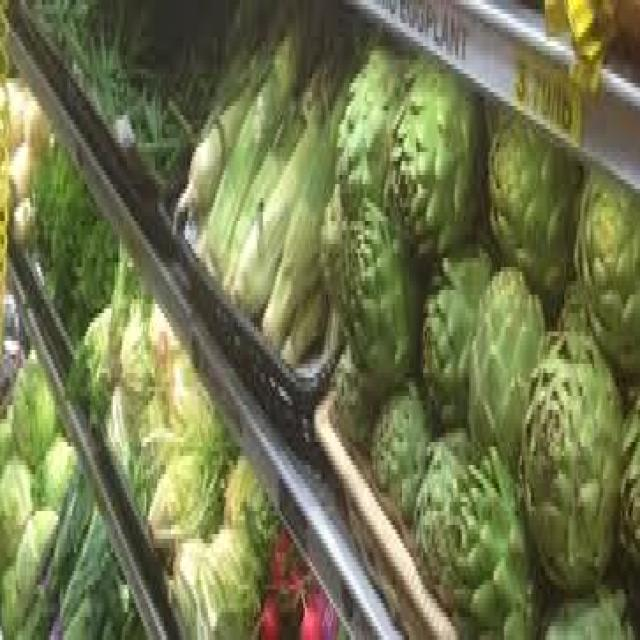organic waste: (261, 32, 370, 336), (224, 42, 347, 300), (198, 18, 312, 272), (516, 318, 619, 580), (169, 14, 282, 235), (384, 51, 478, 262), (485, 96, 573, 308), (450, 438, 540, 636), (458, 253, 543, 456), (342, 193, 418, 387), (573, 166, 638, 373), (421, 230, 492, 414), (19, 452, 90, 636), (400, 419, 464, 603), (333, 37, 404, 198), (66, 23, 220, 92), (368, 373, 434, 516), (53, 506, 120, 636), (144, 433, 218, 548), (101, 368, 155, 502), (166, 534, 236, 635), (162, 346, 224, 460), (208, 511, 265, 631), (34, 0, 176, 46), (544, 0, 638, 64), (542, 576, 638, 636), (222, 437, 273, 548), (9, 341, 53, 460), (69, 294, 109, 424), (617, 378, 638, 622), (280, 258, 328, 364), (97, 88, 204, 134), (16, 497, 60, 603), (330, 327, 370, 437), (30, 129, 56, 276), (319, 180, 351, 299), (118, 286, 150, 405), (0, 446, 32, 562), (32, 428, 76, 507), (53, 147, 72, 327), (76, 180, 99, 322), (0, 69, 44, 138), (108, 235, 130, 373), (100, 590, 154, 636), (146, 290, 174, 378), (294, 576, 334, 636), (268, 516, 300, 589), (95, 207, 118, 286), (0, 557, 23, 636), (5, 134, 32, 194), (139, 134, 185, 166), (557, 267, 580, 318), (9, 180, 32, 230), (256, 580, 276, 636), (0, 345, 19, 400), (0, 409, 12, 451)
